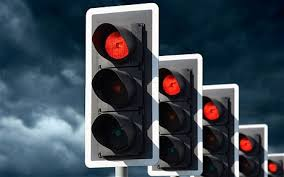red: (83, 5, 161, 169), (90, 11, 155, 163), (92, 23, 140, 152)
